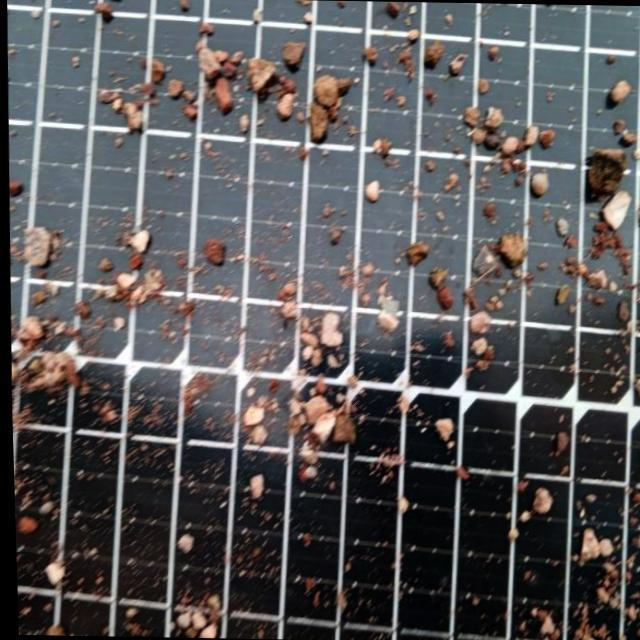Surface Contaminant: (6, 0, 640, 640)
